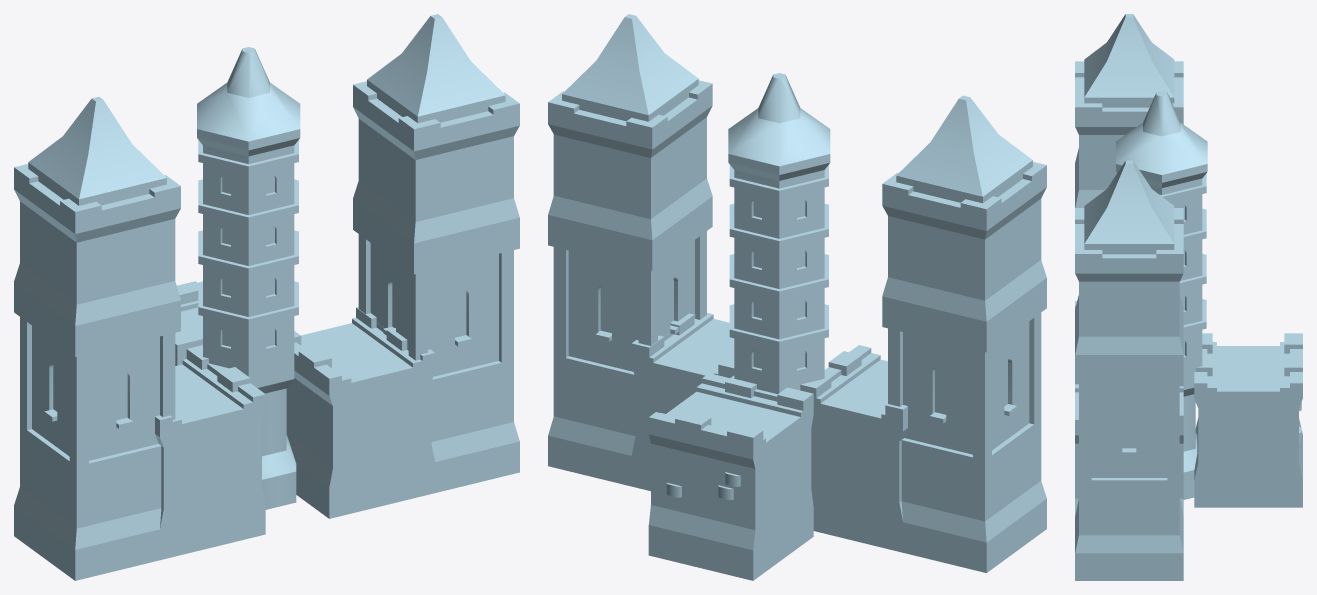
The model's file is monastere-glace.glb.
The picture shows the model from 3 angles, left to right: view 1: azimuth 30°, elevation 25°; view 2: azimuth 150°, elevation 25°; view 3: azimuth 270°, elevation 25°; orthographic projection. The views are drawn at different scales.
Parts seen in each view (by area): view 1: tower-hexagon-base; view 2: tower-hexagon-base; view 3: tower-hexagon-base.
Boxes of the visible parts, x1,y1,x2,y2 form: tower-hexagon-base: (14, 14, 519, 580); tower-hexagon-base: (548, 14, 1046, 580); tower-hexagon-base: (1075, 14, 1302, 580).
Size of the model in its own units: 29.4 by 28.21 by 14.7.
